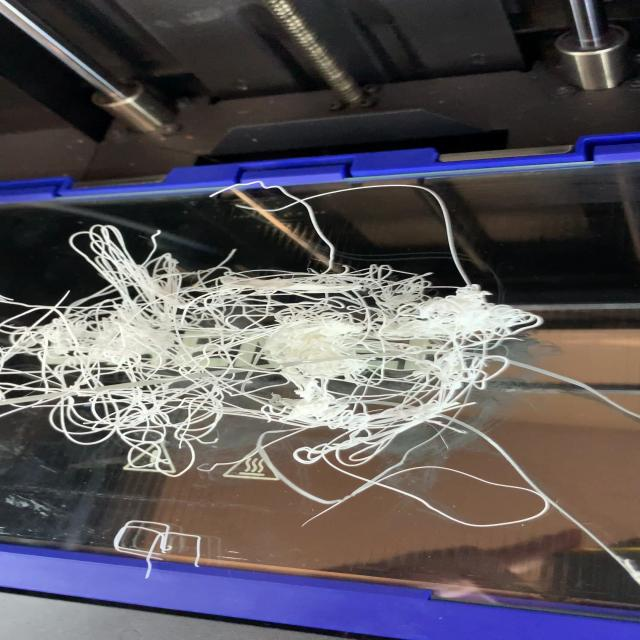spaghetti: (3, 223, 548, 484)
